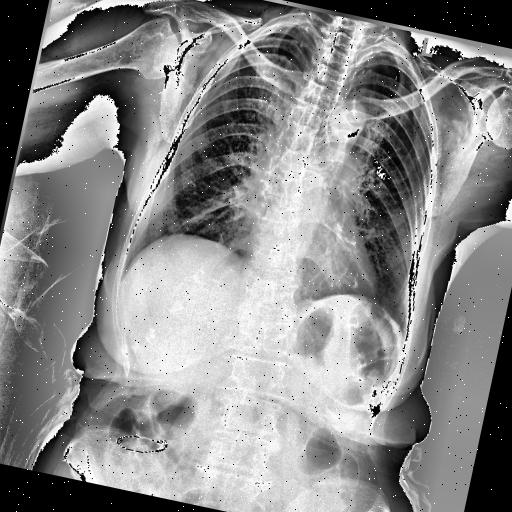0- Aortic enlargement: (324, 96, 370, 154), (333, 96, 369, 138)
9- Other lesion: (239, 78, 336, 292)
